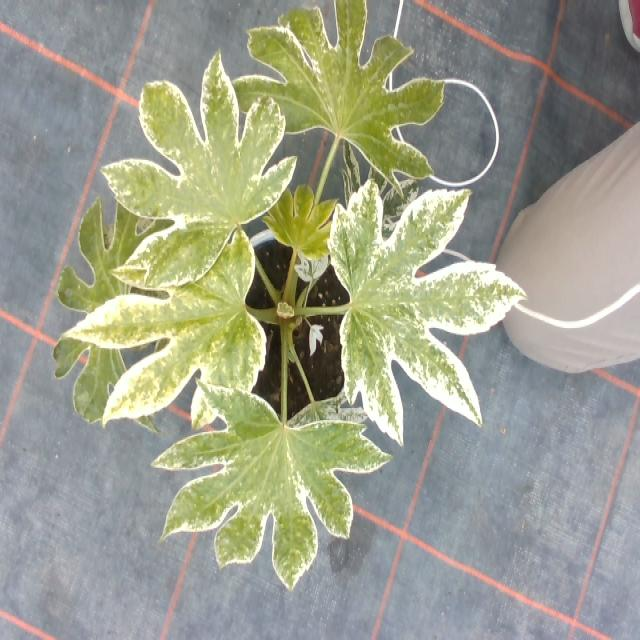Fatsia-japonica: (324, 185, 518, 443), (83, 56, 287, 296), (158, 381, 389, 588), (66, 219, 280, 420), (12, 174, 166, 440), (228, 1, 432, 194), (261, 181, 339, 267)
